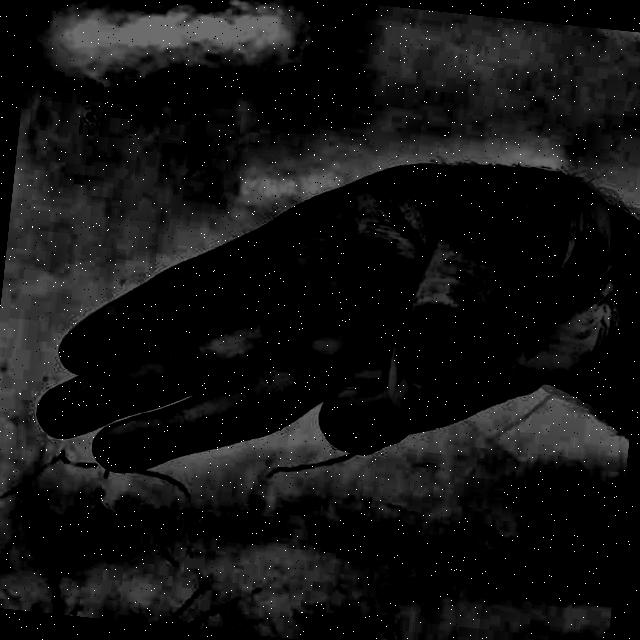Ma: (11, 91, 638, 564)
